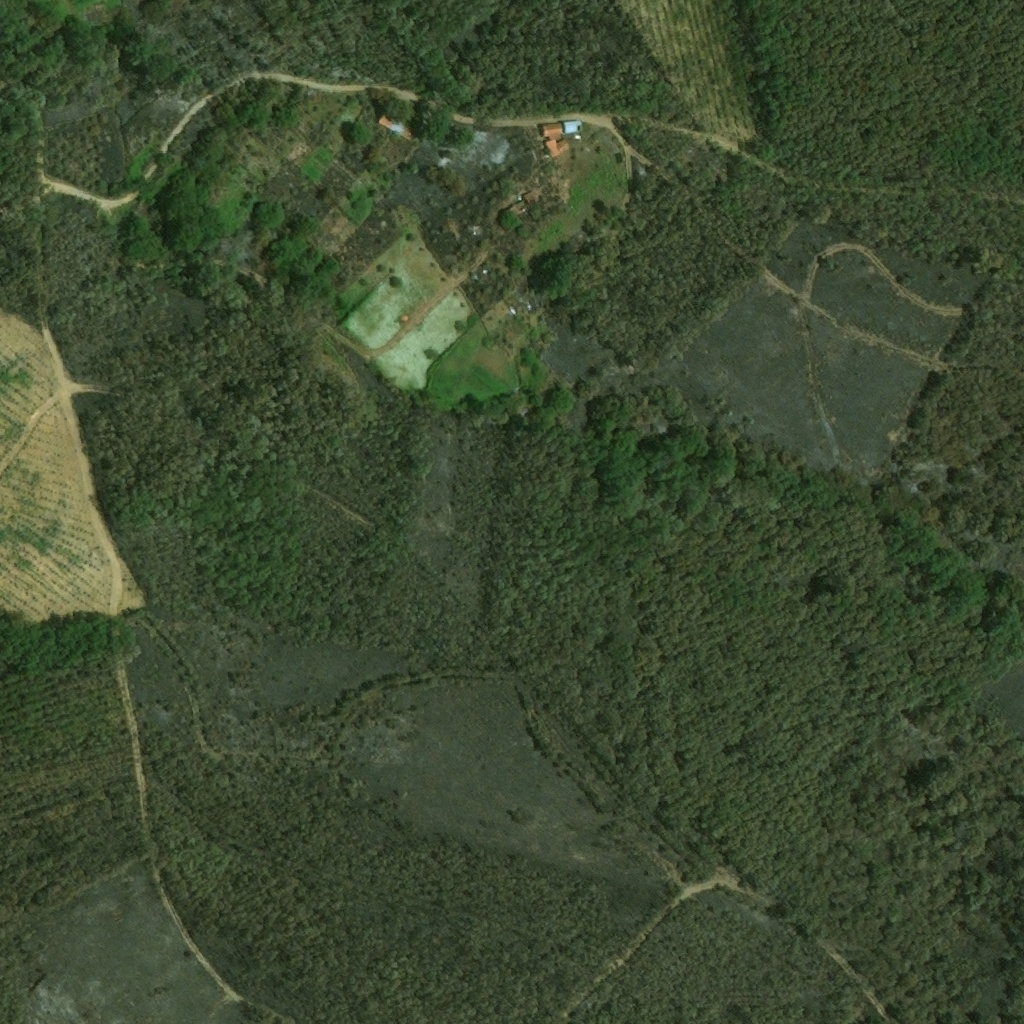0 no-damage: (377, 109, 407, 134), (545, 139, 571, 159), (543, 122, 564, 138), (563, 120, 582, 134)
1 minor-damage: (507, 195, 535, 220)
